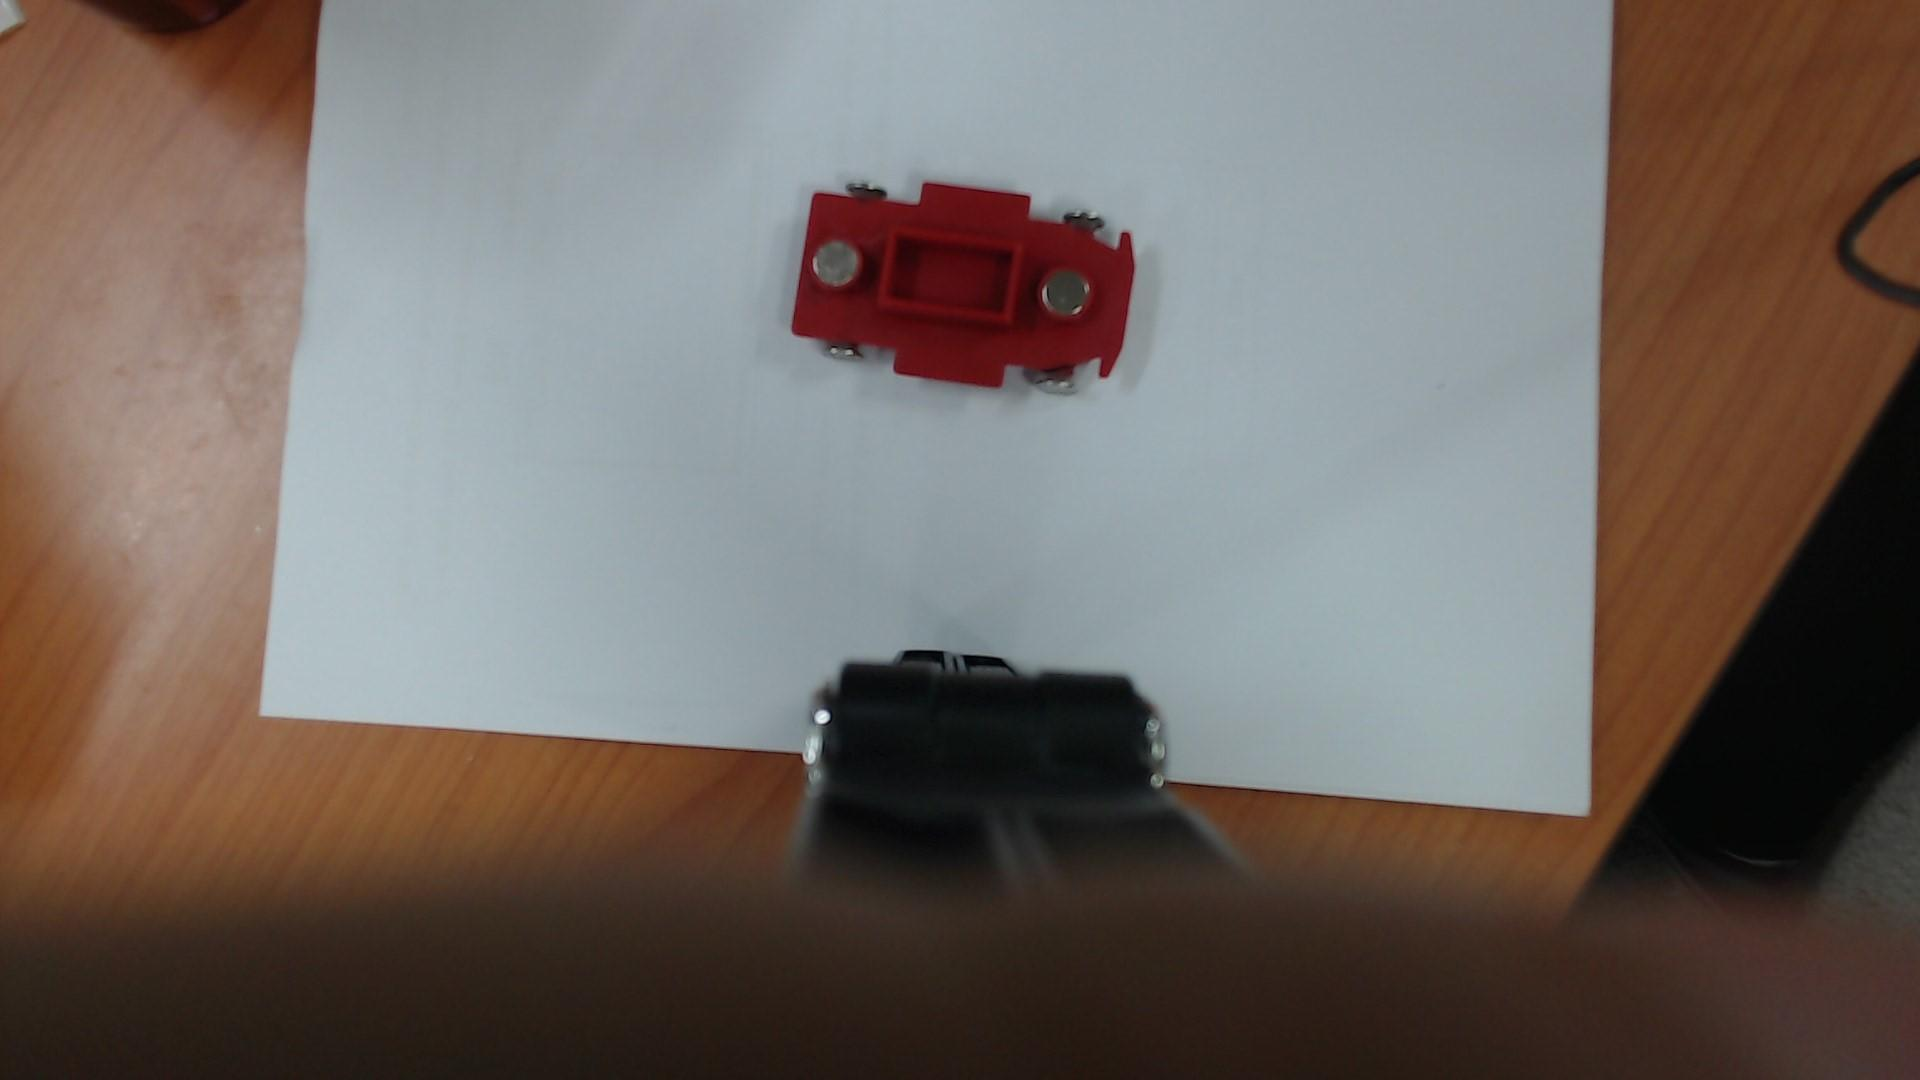lower_ok: (868, 222, 1035, 335)
